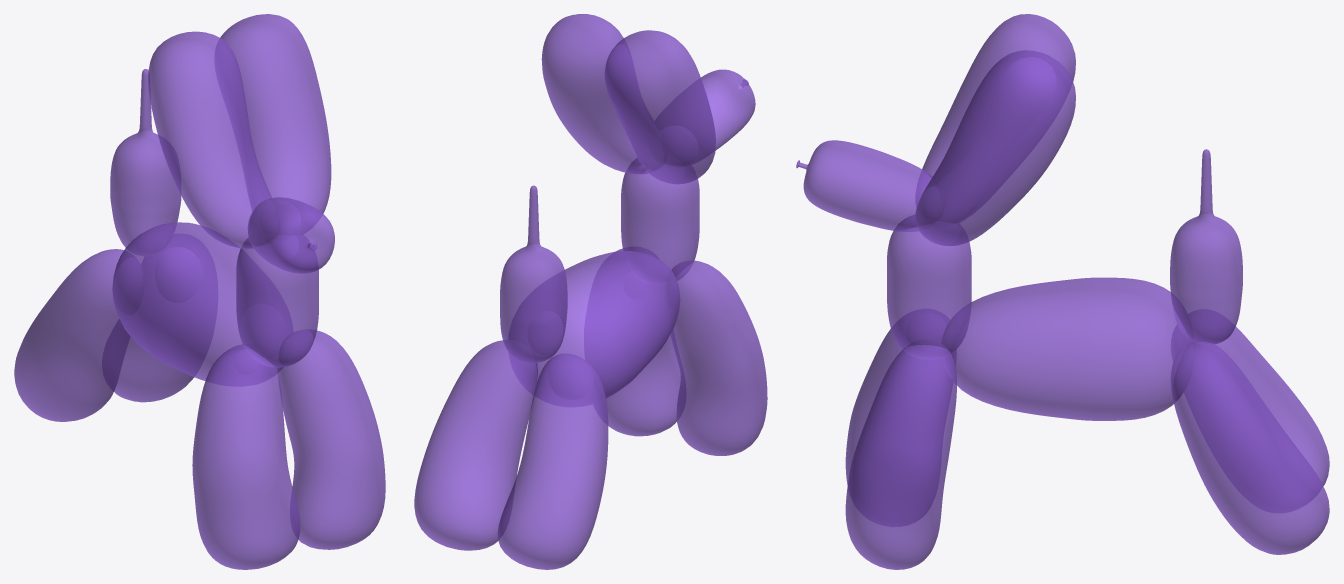
File: inu.glb
3 renders of one model, left to right at view 1: azimuth 30°, elevation 25°; view 2: azimuth 150°, elevation 25°; view 3: azimuth 270°, elevation 25°, orthographic. The views are drawn at different scales.
Parts seen in each view (by area): view 1: Cube.001, Cube.006, Cube.002, Cube, Cube.003, Cube.004, Cube.005; view 2: Cube.002, Cube.006, Cube.001, Cube, Cube.003, Cube.004, Cube.005; view 3: Cube, Cube.002, Cube.006, Cube.001, Cube.003, Cube.005, Cube.004.
Boxes of the visible parts, x1,y1,x2,y2 form: Cube.001: (192, 330, 385, 569); Cube.006: (148, 14, 331, 248); Cube.002: (14, 247, 203, 421); Cube: (112, 222, 287, 380); Cube.003: (236, 235, 318, 367); Cube.004: (110, 69, 181, 255); Cube.005: (248, 197, 334, 273); Cube.002: (414, 340, 608, 569); Cube.006: (541, 14, 715, 184); Cube.001: (606, 247, 767, 455); Cube: (509, 251, 680, 399); Cube.003: (621, 158, 699, 284); Cube.004: (500, 185, 567, 362); Cube.005: (660, 69, 755, 166); Cube: (941, 277, 1193, 420); Cube.002: (1171, 324, 1329, 554); Cube.006: (915, 14, 1075, 246); Cube.001: (845, 313, 956, 569); Cube.003: (887, 215, 971, 359); Cube.005: (796, 140, 940, 231); Cube.004: (1170, 149, 1242, 344).
Size of the model in its own units: 2.83 by 7.38 by 7.08.
